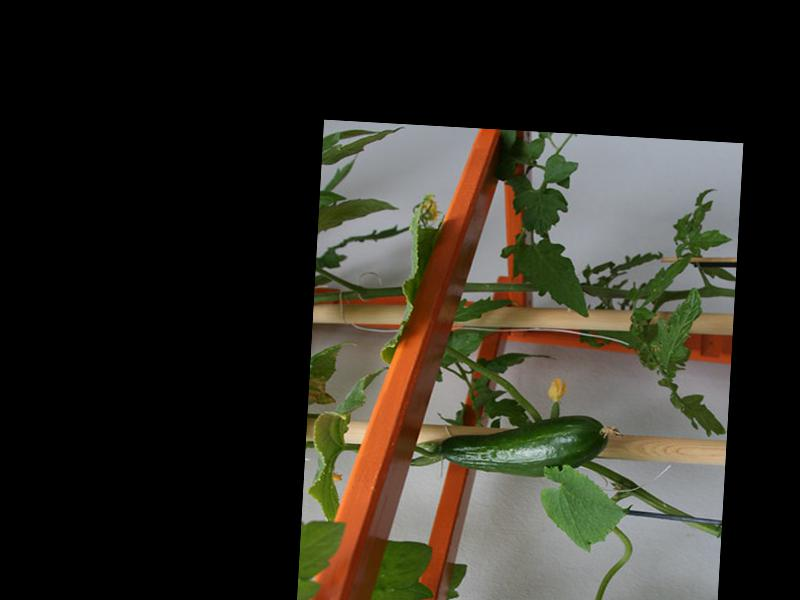Cucumber: (439, 408, 620, 480)
